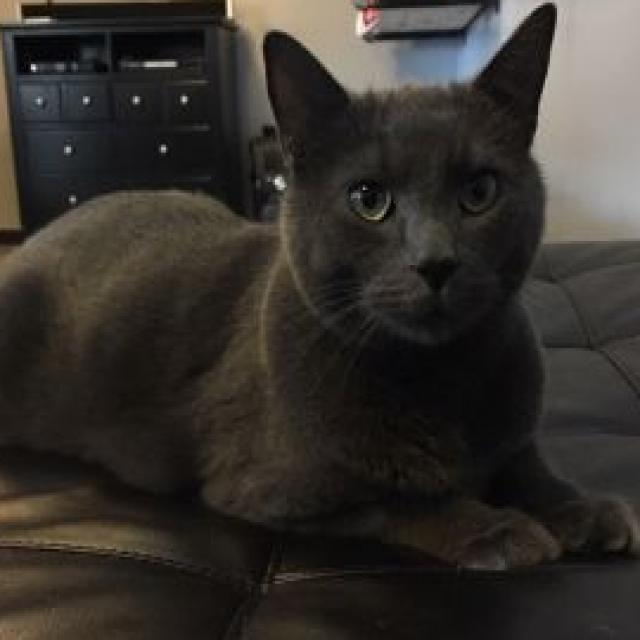Russian Blue: (0, 0, 640, 573)
